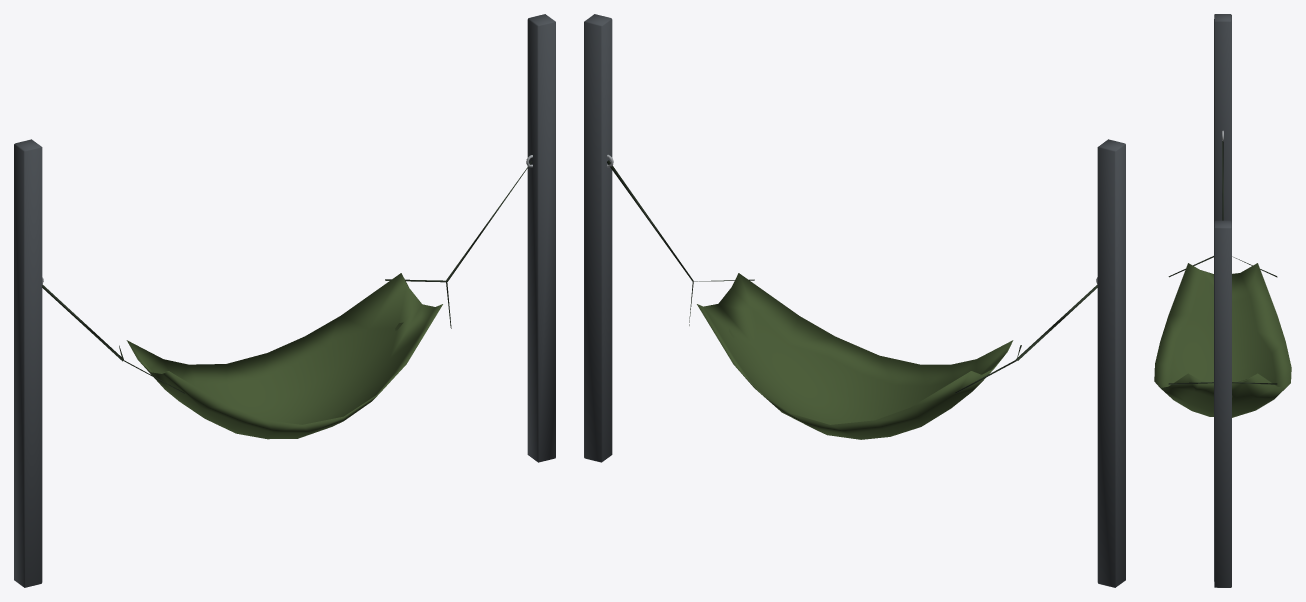
Rendered from vong_hung.glb.
3 renders of one model, left to right at view 1: azimuth 30°, elevation 25°; view 2: azimuth 150°, elevation 25°; view 3: azimuth 270°, elevation 25°, orthographic. The views are drawn at different scales.
Visible parts, largest first — view 1: w_moc_vong, w_vai_vong_hung, w_day_vong_hung; view 2: w_moc_vong, w_vai_vong_hung, w_day_vong_hung; view 3: w_vai_vong_hung, w_moc_vong, w_day_vong_hung.
Boxes of the visible parts, x1,y1,x2,y2 form: w_moc_vong: (14, 14, 555, 587); w_vai_vong_hung: (126, 273, 442, 439); w_day_vong_hung: (42, 161, 532, 393); w_moc_vong: (584, 14, 1125, 587); w_vai_vong_hung: (697, 273, 1013, 439); w_day_vong_hung: (607, 160, 1097, 393); w_vai_vong_hung: (1154, 263, 1291, 417); w_moc_vong: (1214, 14, 1231, 587); w_day_vong_hung: (1168, 141, 1277, 384).
Bounding box in the file's own units: 2.8 × 2.2 × 0.7586.
